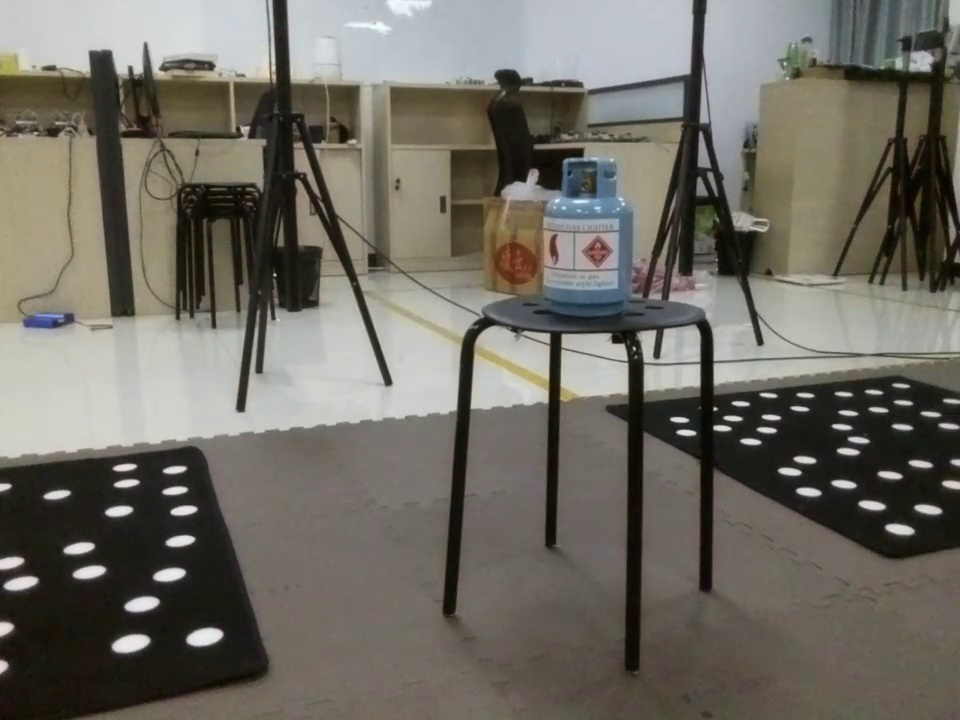gas tank: (538, 154, 640, 319)
